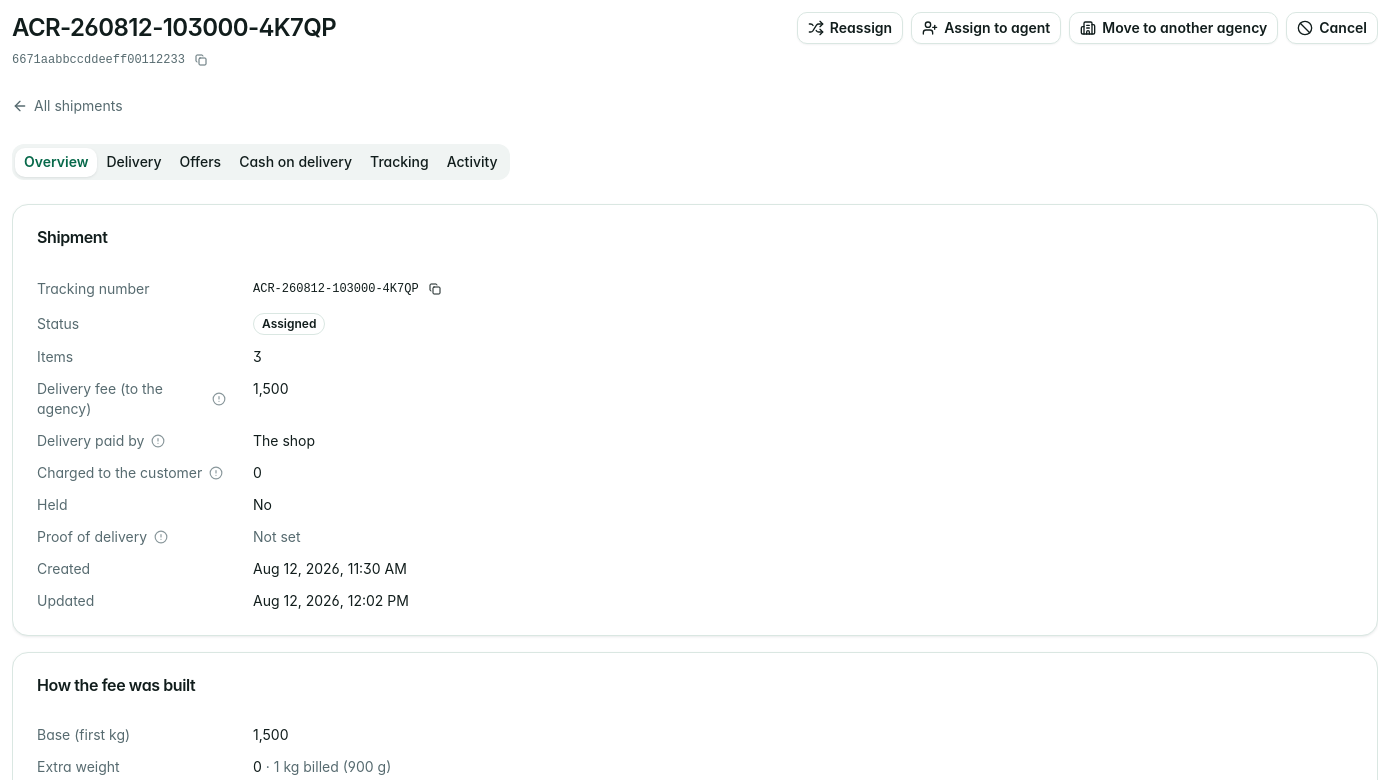
it: the offer trail › shows who forced an offer, and why
Click the tab "Offers".
click(200, 162)  # box [171,148,230,176]
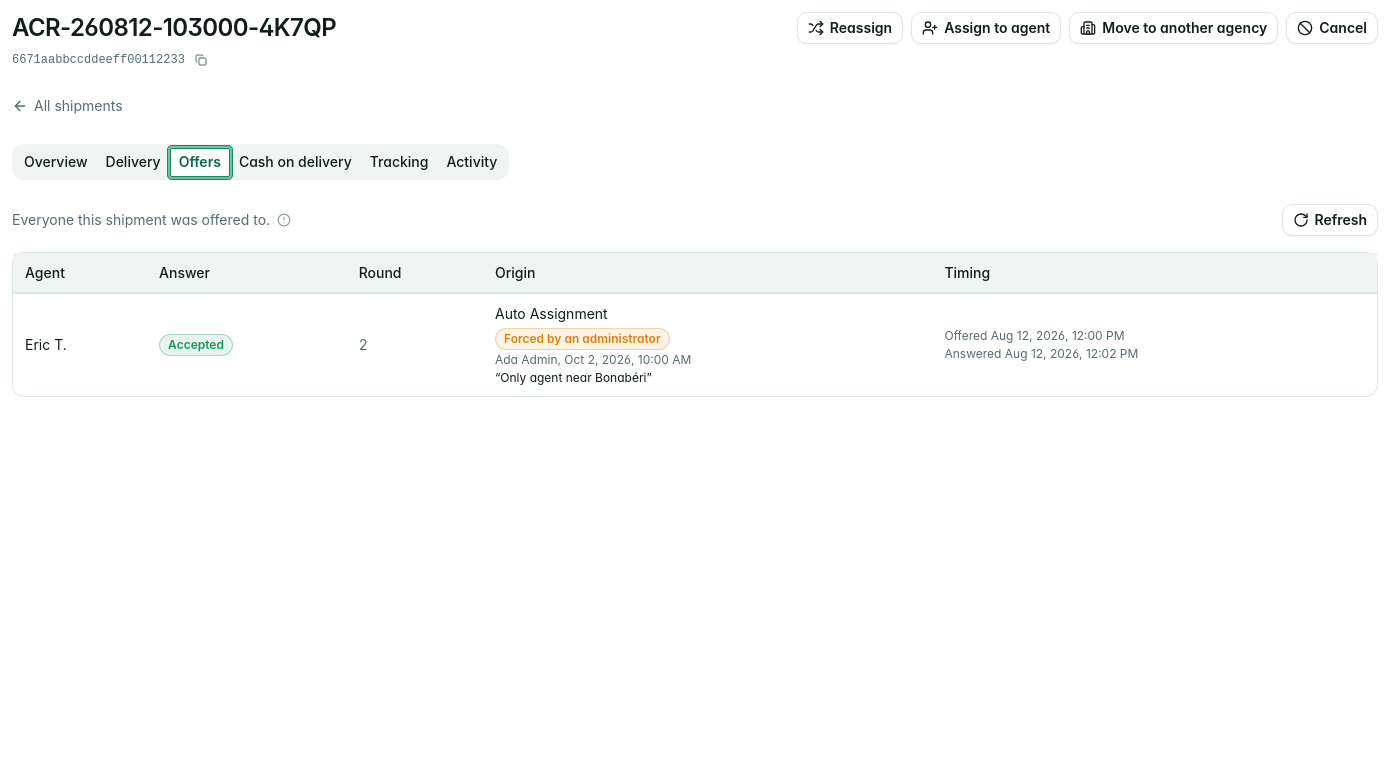
Result: the text "Forced by an administrator" is shown at [495,328,670,350]
Result: the text "Ada Admin, Oct 2, 2026, 10:00 AM" is shown at [495,352,691,366]
Result: the text "“Only agent near Bonabéri”" is shown at [495,370,652,384]
